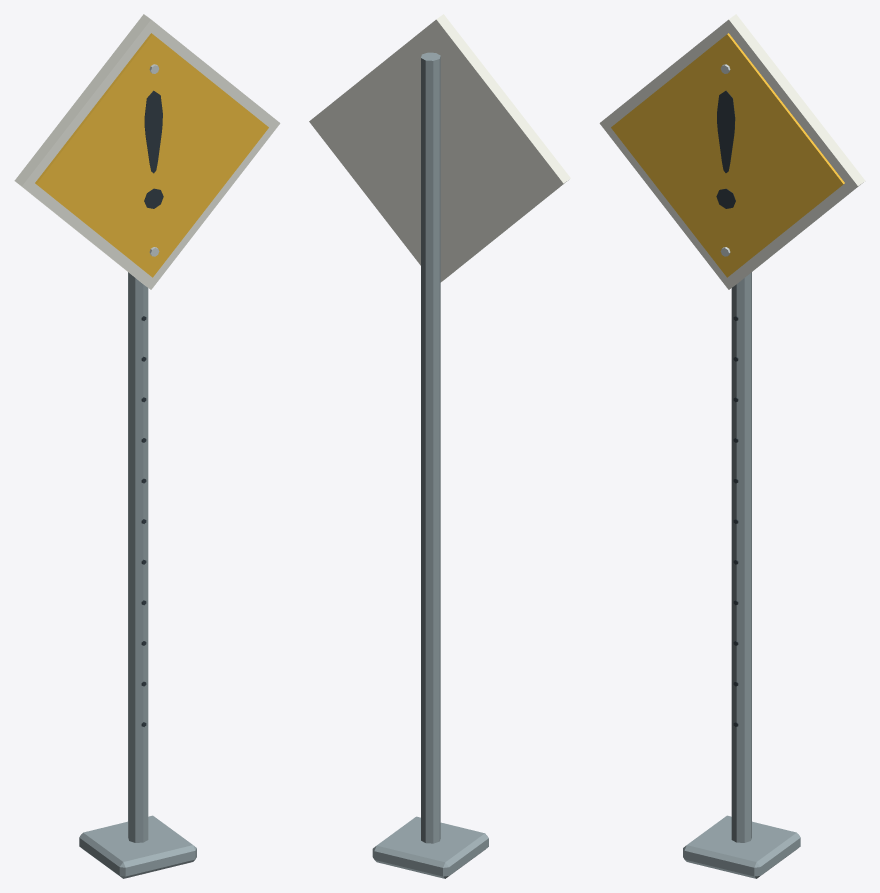
The model's file is Sign_Construction.glb.
The picture shows the model from 3 angles, left to right: view 1: azimuth 30°, elevation 25°; view 2: azimuth 150°, elevation 25°; view 3: azimuth 330°, elevation 25°; orthographic projection.
Visible parts, largest first — view 1: Sign_Construction; view 2: Sign_Construction; view 3: Sign_Construction.
Boxes of the visible parts, x1=… form: Sign_Construction: x1=14, y1=14, x2=280, y2=878; Sign_Construction: x1=309, y1=14, x2=570, y2=878; Sign_Construction: x1=599, y1=14, x2=865, y2=878.
Size of the model in its own units: 0.8 by 2.5 by 0.24.
